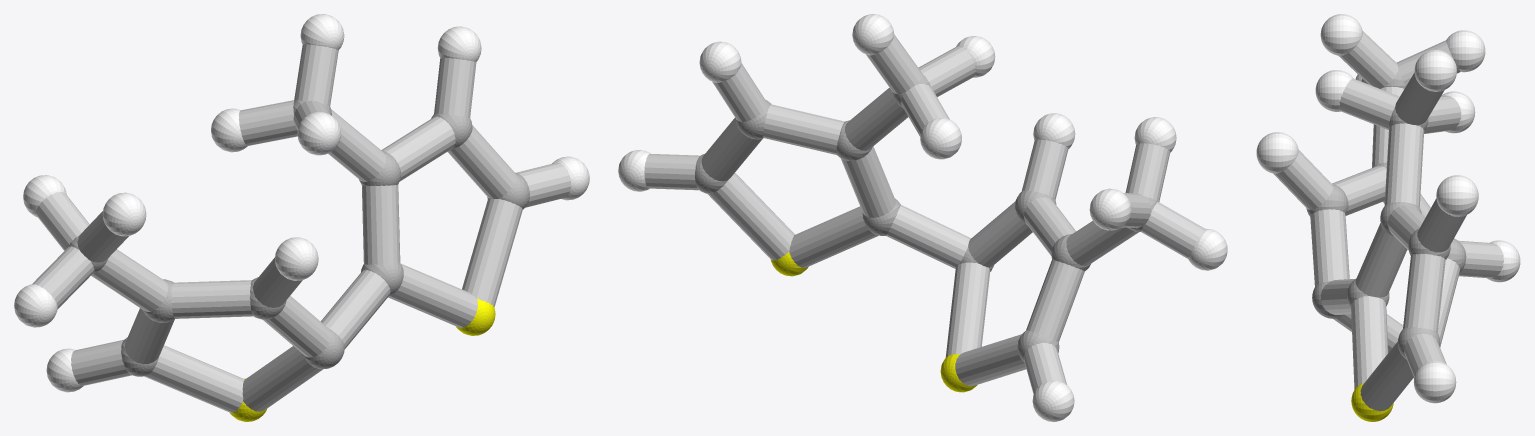
File: Methylthiophene_Phi_60_Theta_140_Methylthiophene.glb
3 views of the same model, side by side, from view 1: azimuth 30°, elevation 25°; view 2: azimuth 150°, elevation 25°; view 3: azimuth 270°, elevation 25° (orthographic). The views are drawn at different scales.
Parts seen in each view (by area): view 1: grp7965, grp3621, grp1, grp7241; view 2: grp7965, grp3621, grp1, grp7241; view 3: grp7965, grp3621, grp1, grp7241.
Part boxes in pixels (x1,y1,x2,y2): grp7965: (32, 44, 571, 412); grp3621: (14, 14, 589, 392); grp1: (68, 100, 529, 376); grp7241: (229, 299, 495, 421); grp7965: (644, 34, 1205, 393); grp3621: (618, 14, 1227, 421); grp1: (695, 73, 1157, 362); grp7241: (770, 252, 977, 392); grp7965: (1273, 31, 1503, 411); grp3621: (1256, 14, 1520, 403); grp1: (1306, 71, 1466, 359); grp7241: (1351, 378, 1413, 421).
Size of the model in its own units: 9.48 by 5.69 by 3.73.
